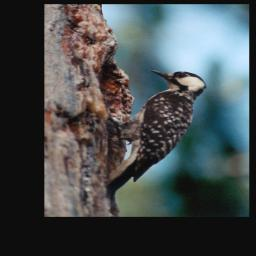Woodpecker: (99, 67, 219, 202)
